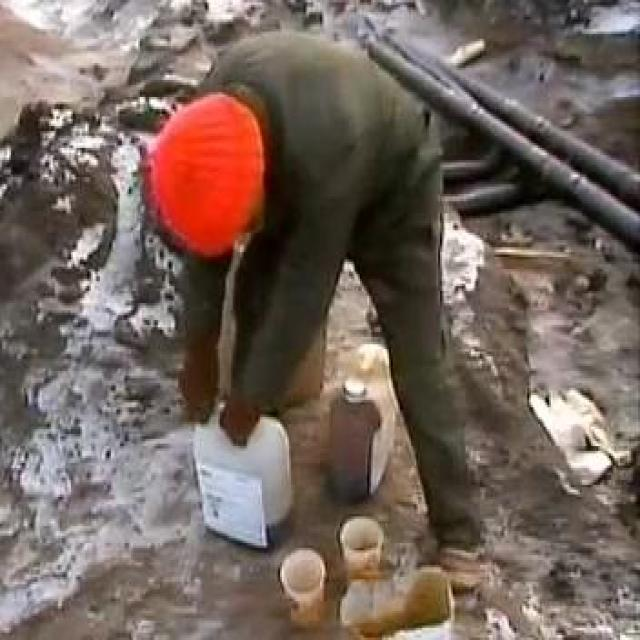Safety-Helmet: (118, 78, 289, 284)
